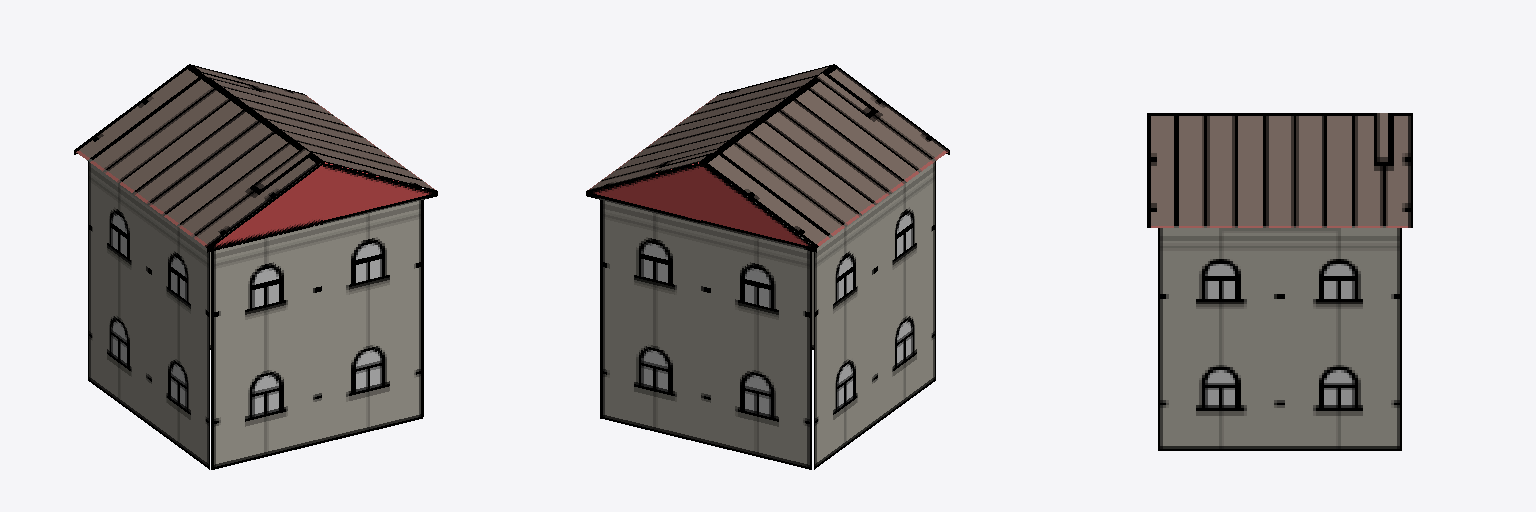
3 renders of one model, left to right at view 1: azimuth 30°, elevation 25°; view 2: azimuth 150°, elevation 25°; view 3: azimuth 270°, elevation 25°, orthographic.
Visible parts, largest first — view 1: Cube.009_Cube.001; view 2: Cube.009_Cube.001; view 3: Cube.009_Cube.001.
Part boxes in pixels (left/top/right/bottom): Cube.009_Cube.001: left=74, top=64, right=437, bottom=469; Cube.009_Cube.001: left=586, top=64, right=949, bottom=469; Cube.009_Cube.001: left=1147, top=113, right=1412, bottom=450.
Bounding box in the file's own units: 1.08 × 1.28 × 1.08.
Materials: 1 (1 with a texture image).